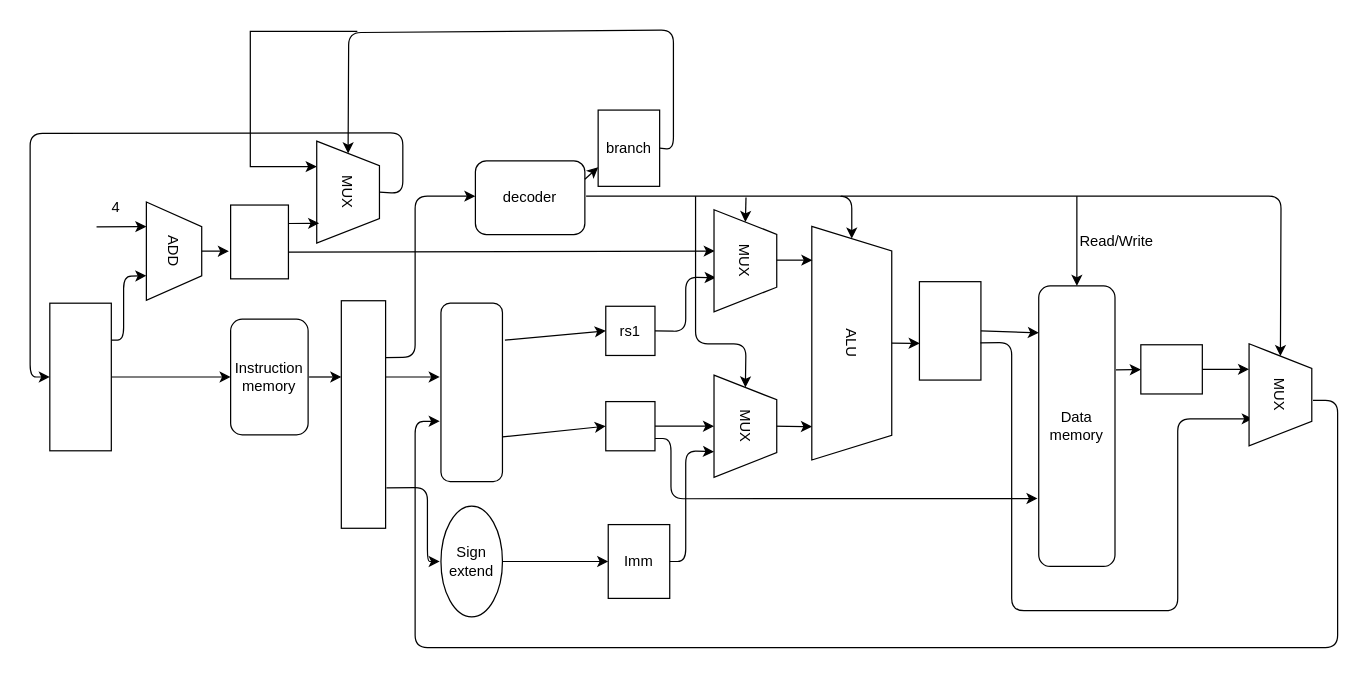
This 1369x679 diagram has some shape labels left out. The shapes that lost their labels are listed below. From the top down, each one's centre as x and y in pixels, then its label:
point (258, 241): PC4
point (949, 330): ALU Res
point (80, 376): PC
point (1171, 369): Data
point (471, 392): registers file
point (363, 414): inst
point (630, 425): rs2
